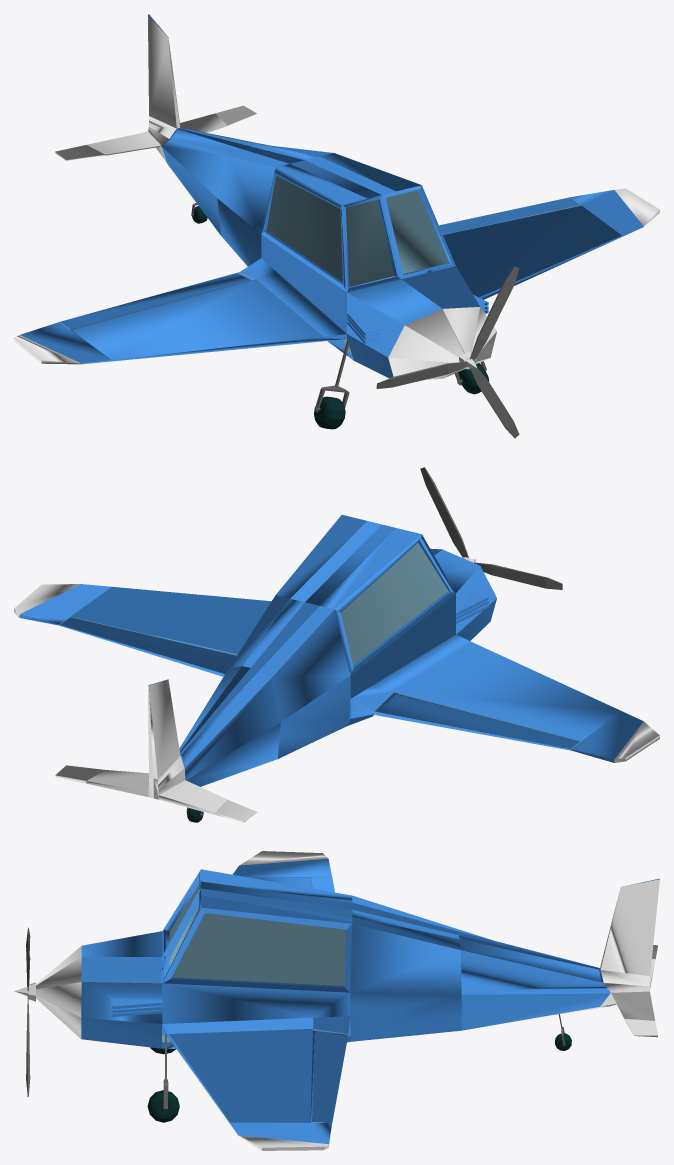
3 views of the same model, one above another, from view 1: azimuth 30°, elevation 25°; view 2: azimuth 150°, elevation 25°; view 3: azimuth 270°, elevation 25° (orthographic).
Visible parts, largest first — view 1: Cube_3, Cube_1, Cube_0, Cube_2, Wheel_4; view 2: Cube_3, Cube_1, Cube_0; view 3: Cube_3, Wheel_2.
Boxes of the visible parts, <box> form: Cube_3: <box>14,14,659,379</box>; Cube_1: <box>469,266,519,360</box>; Cube_0: <box>376,361,466,388</box>; Cube_2: <box>470,367,519,438</box>; Wheel_4: <box>314,396,345,429</box>; Cube_3: <box>14,515,659,822</box>; Cube_1: <box>420,467,469,558</box>; Cube_0: <box>474,562,562,589</box>; Cube_3: <box>36,851,659,1150</box>; Wheel_2: <box>147,1090,179,1122</box>.
Size of the model in its own units: 869 by 285 by 799.
